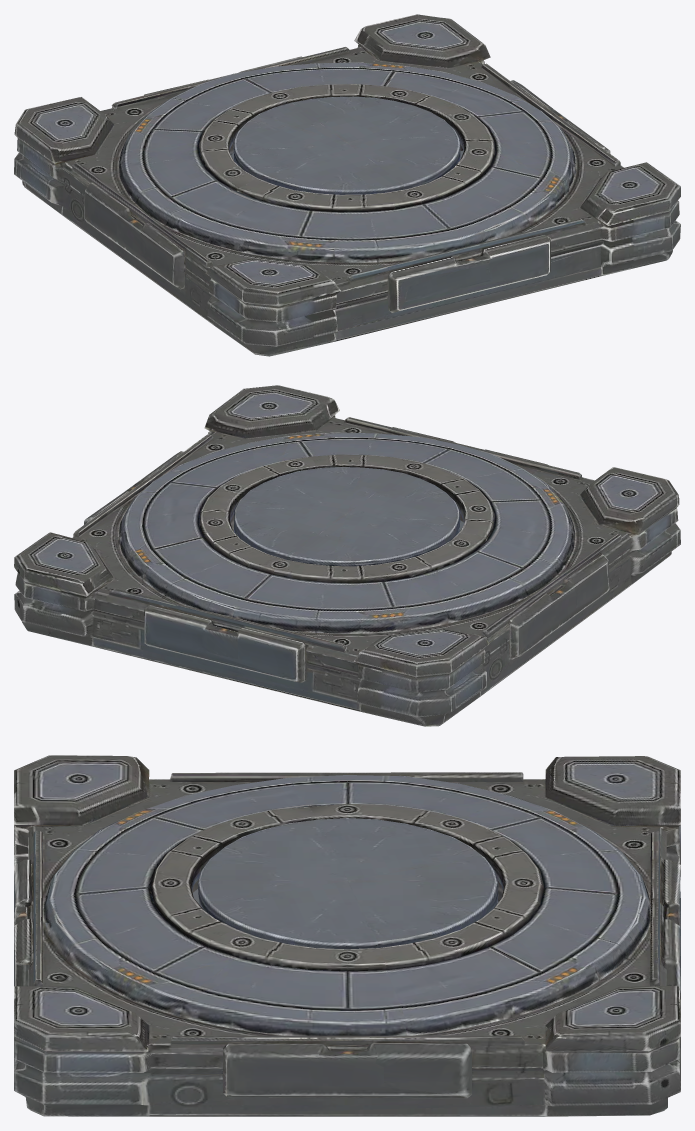
The model's file is floor_1.glb.
The picture shows the model from 3 angles, top to bottom: view 1: azimuth 30°, elevation 25°; view 2: azimuth 150°, elevation 25°; view 3: azimuth 270°, elevation 25°; orthographic projection. The views are drawn at different scales.
Visible parts, largest first — view 1: mesh_node; view 2: mesh_node; view 3: mesh_node.
Part boxes in pixels (x1,y1,x2,y2): mesh_node: [14, 14, 680, 356]; mesh_node: [14, 385, 680, 726]; mesh_node: [14, 755, 680, 1116].
Bounding box in the file's own units: 0.9961 × 0.1731 × 1.
1 material, 1 textured.
